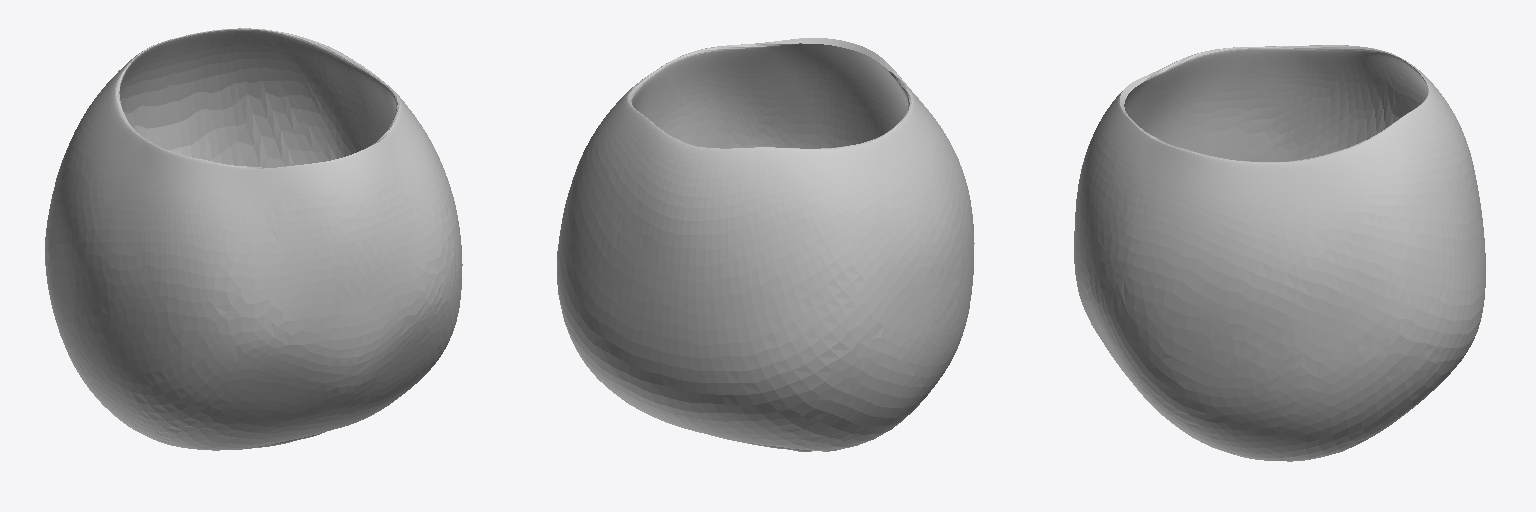
File: FISHBOWL.obj
The picture shows the model from 3 angles: view 1: azimuth 30°, elevation 25°; view 2: azimuth 150°, elevation 25°; view 3: azimuth 270°, elevation 25°; orthographic projection.
Visible parts, largest first — view 1: ZBrush_defualt_group; view 2: ZBrush_defualt_group; view 3: ZBrush_defualt_group.
Part boxes in pixels (left/top/right/bottom): ZBrush_defualt_group: left=45, top=28, right=462, bottom=450; ZBrush_defualt_group: left=557, top=38, right=974, bottom=451; ZBrush_defualt_group: left=1074, top=45, right=1485, bottom=461.
Size of the model in its own units: 314 by 292 by 324.